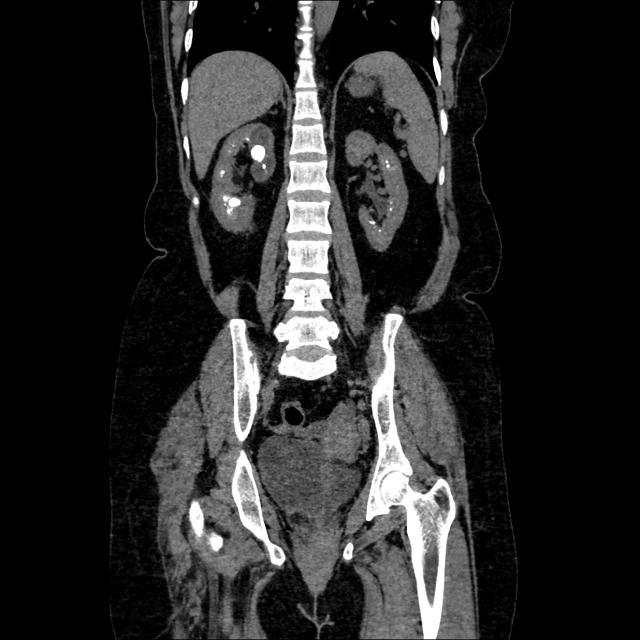kidney: (343, 131, 408, 253), (209, 125, 277, 238)
stone: (248, 144, 268, 164), (227, 197, 242, 208), (262, 163, 267, 170), (385, 164, 391, 169), (389, 208, 393, 212), (378, 229, 382, 233)
